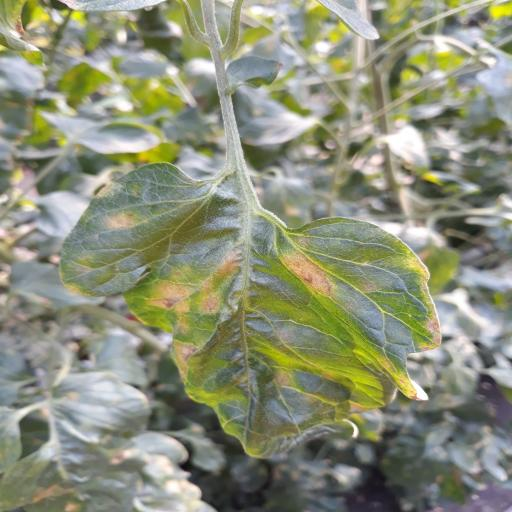Leaf Mold: (58, 162, 441, 462)
